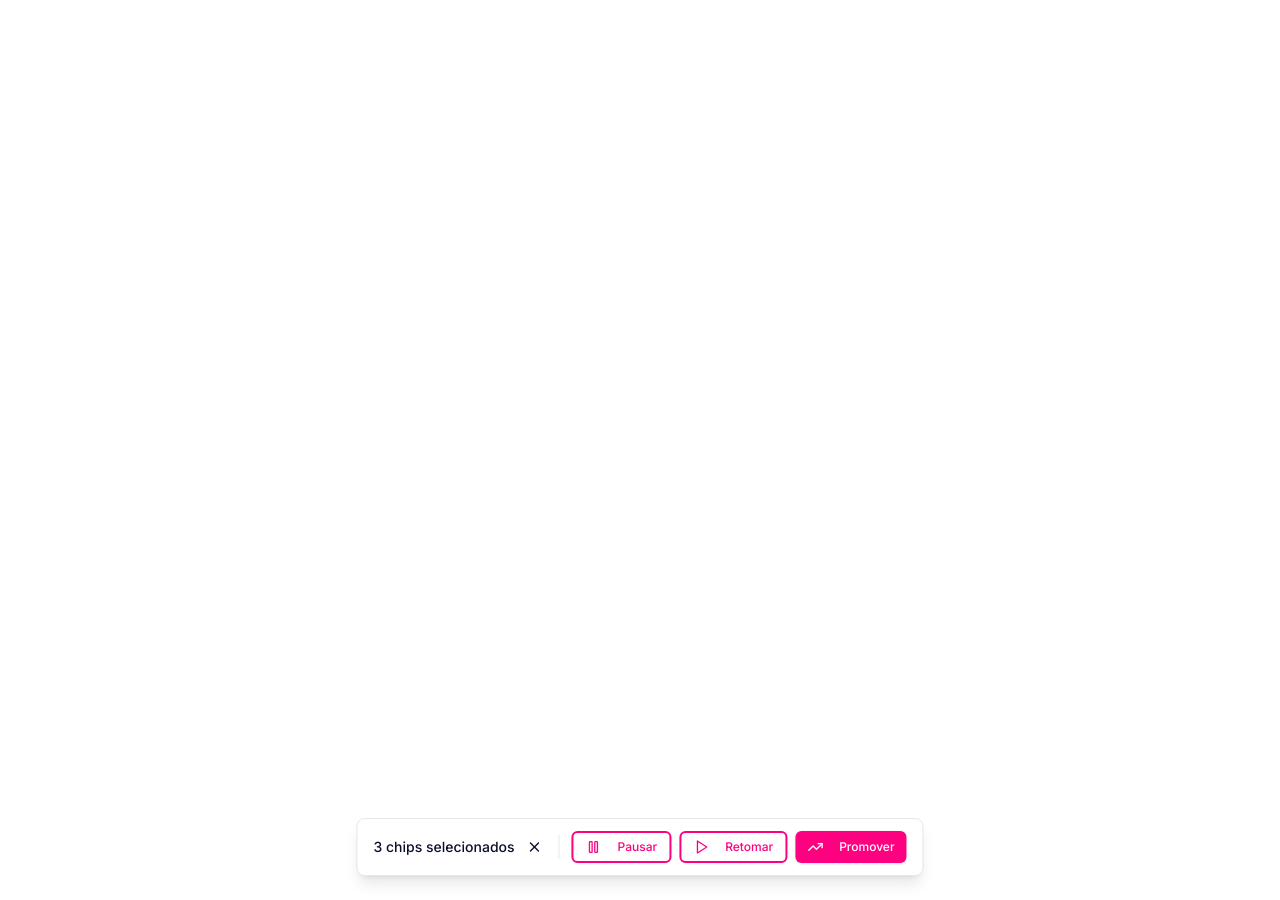
Test: ChipsBulkActions › singular/plural text › should use plural form in dialog for multiple chips
Click the button "Pausar" at (621,847), box [572,831,671,863]
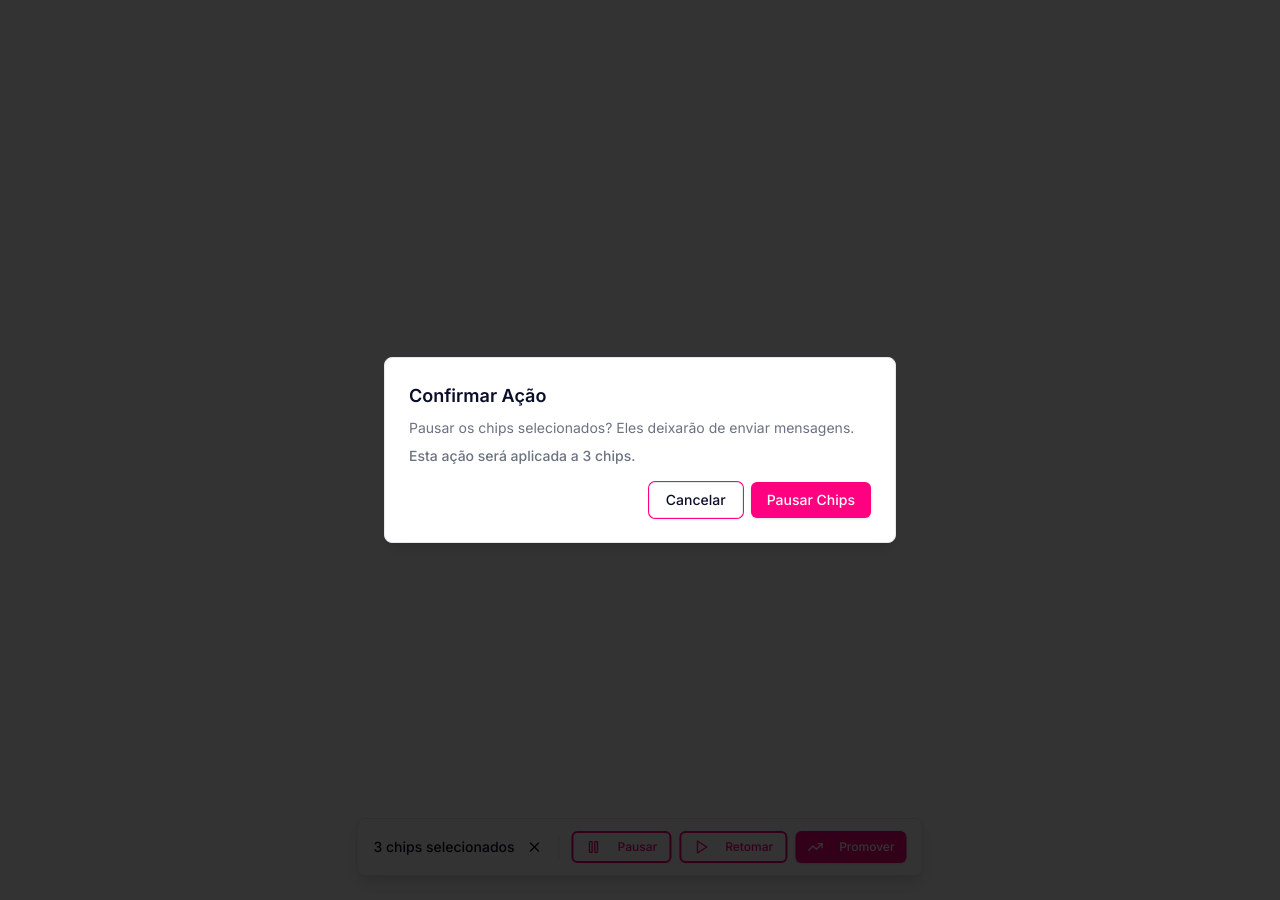
expect the text "Esta ação será aplicada a 3 chips." is shown: met, box [409,447,636,464]
